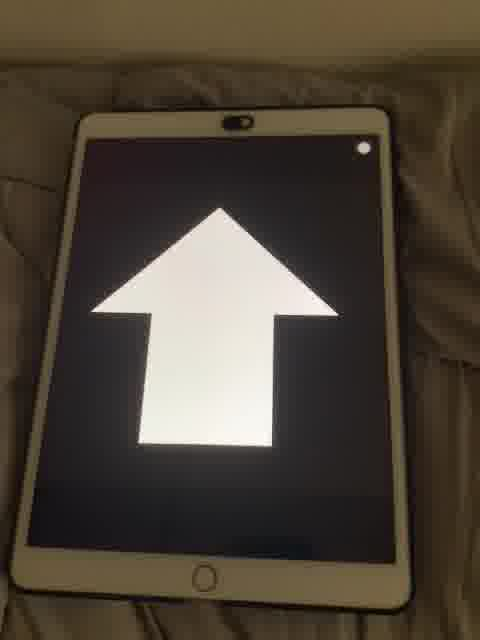up: (87, 204, 341, 451)
